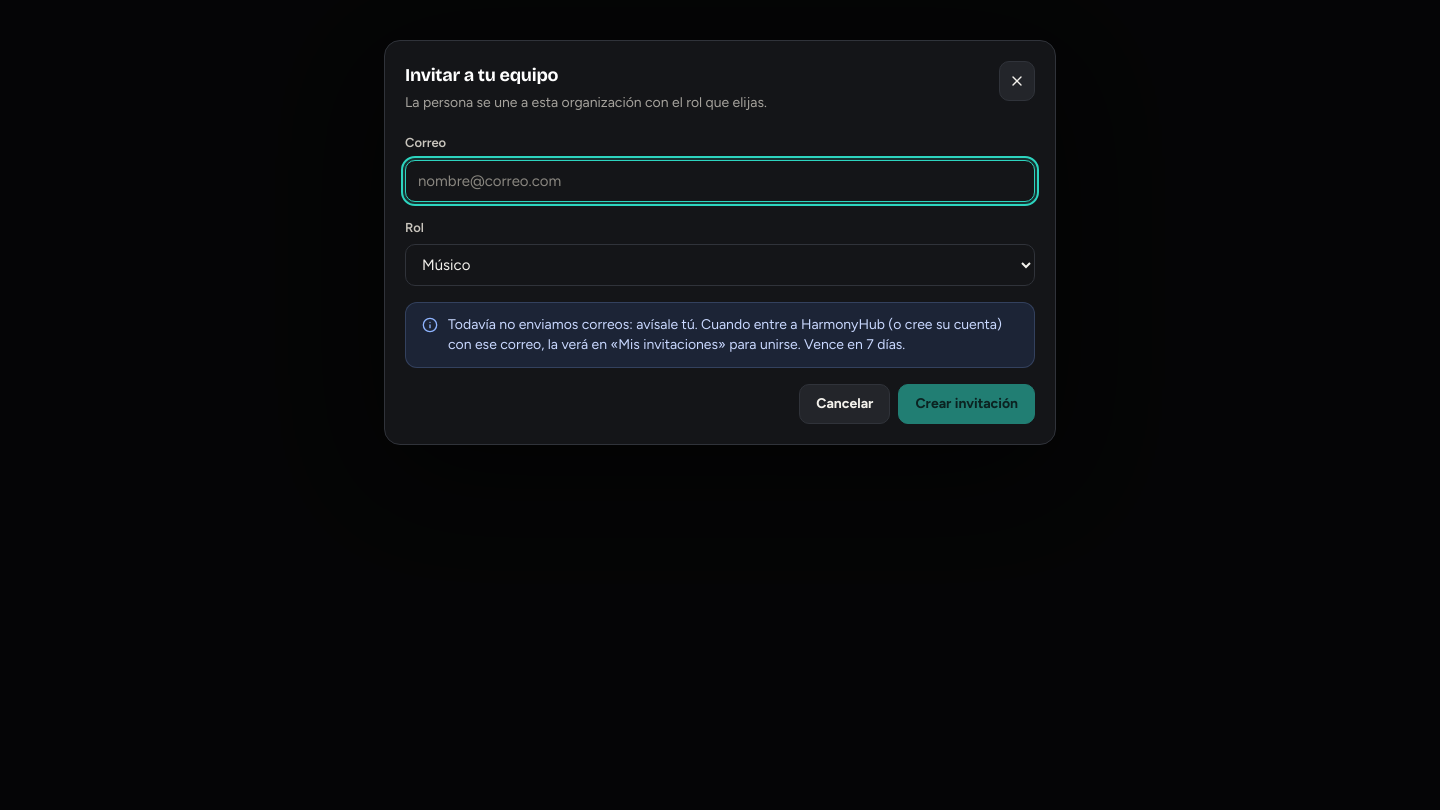
InviteMemberDialog › muestra el error claro de la API (duplicado o ya es miembro)
Type "ana@correo.com" into the field labelled "Correo" at (720, 180), box [405, 160, 1035, 202]
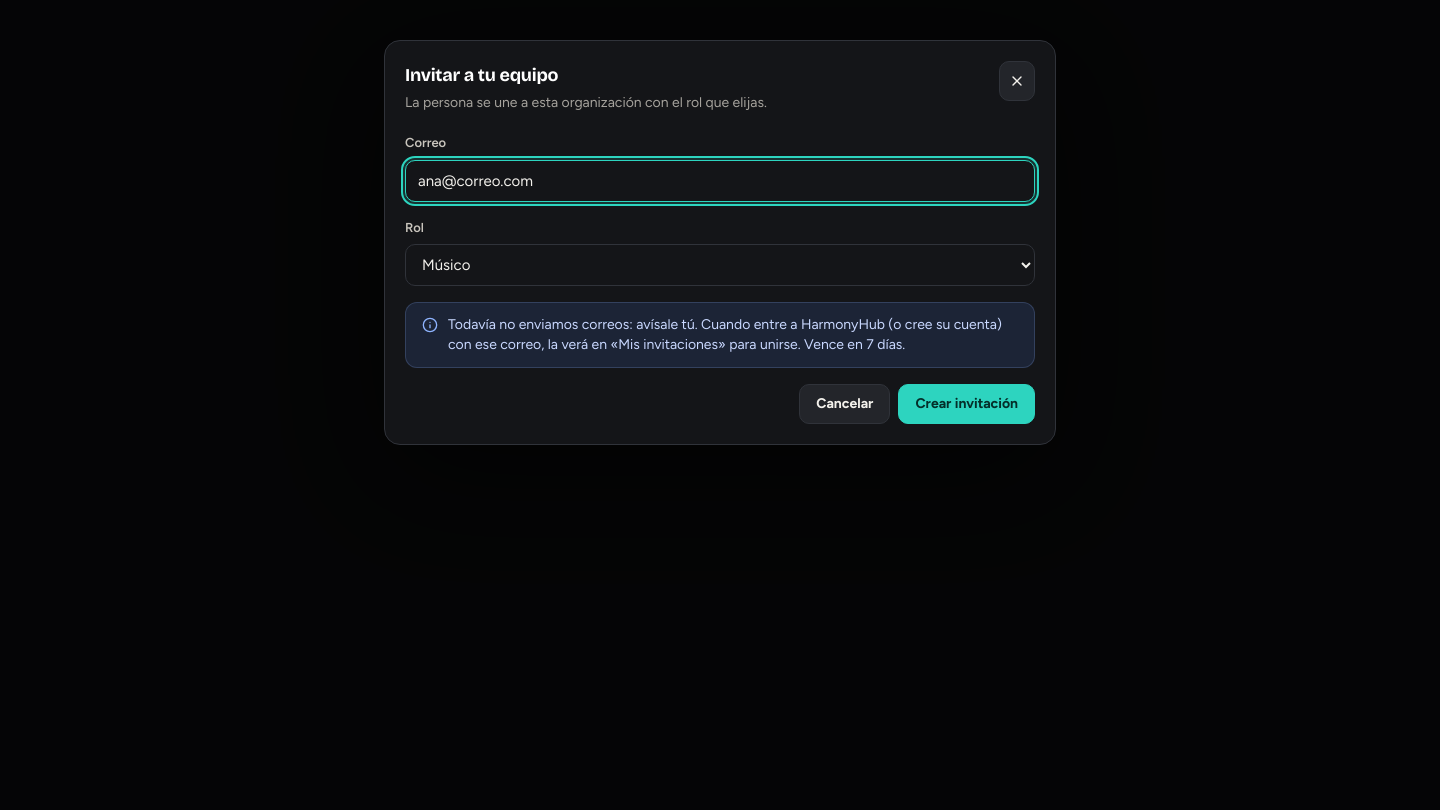
Click the button "Crear invitación" at (967, 404), box [898, 384, 1035, 424]
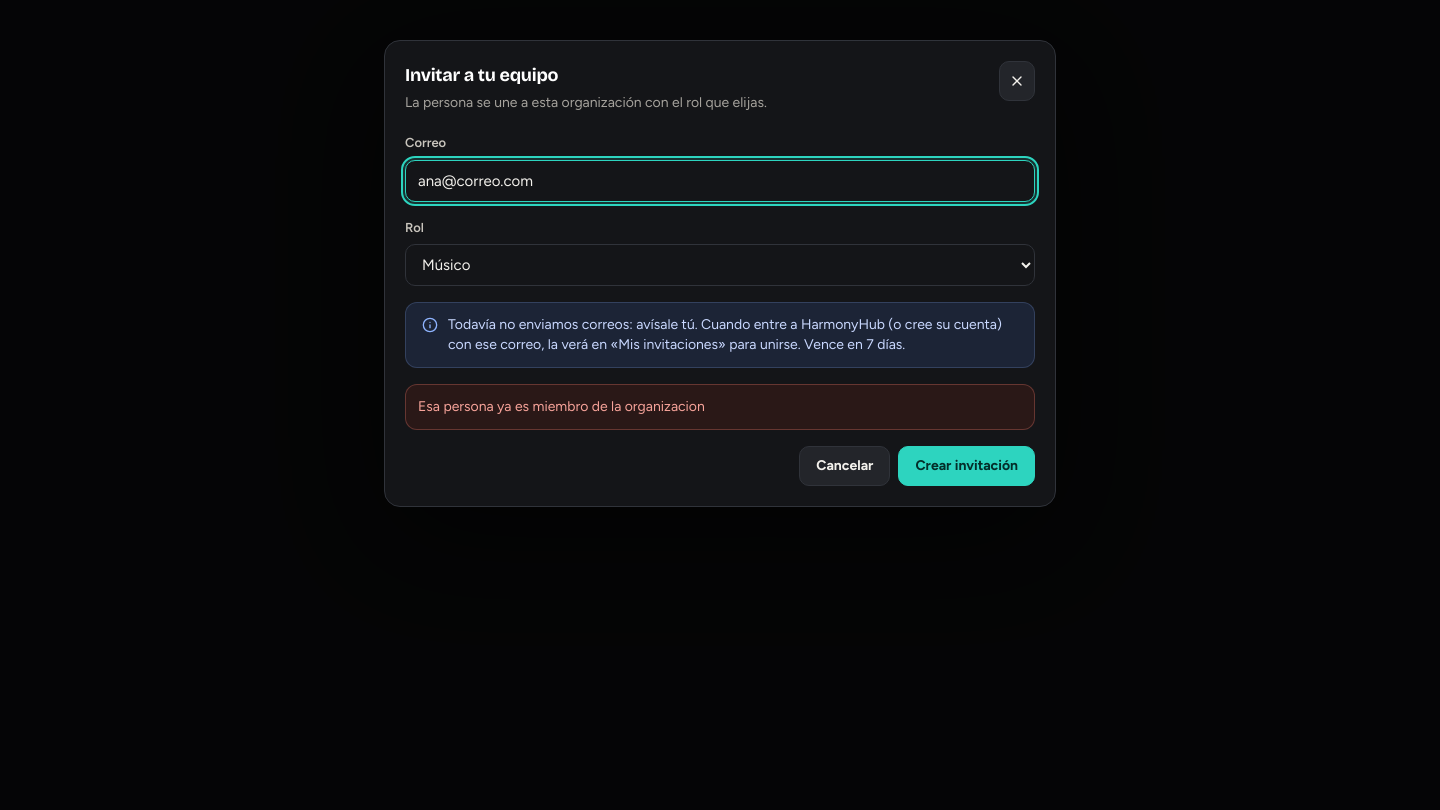
Now the message reads "Esa persona ya es miembro de la organizacion", box [418, 398, 705, 415]
